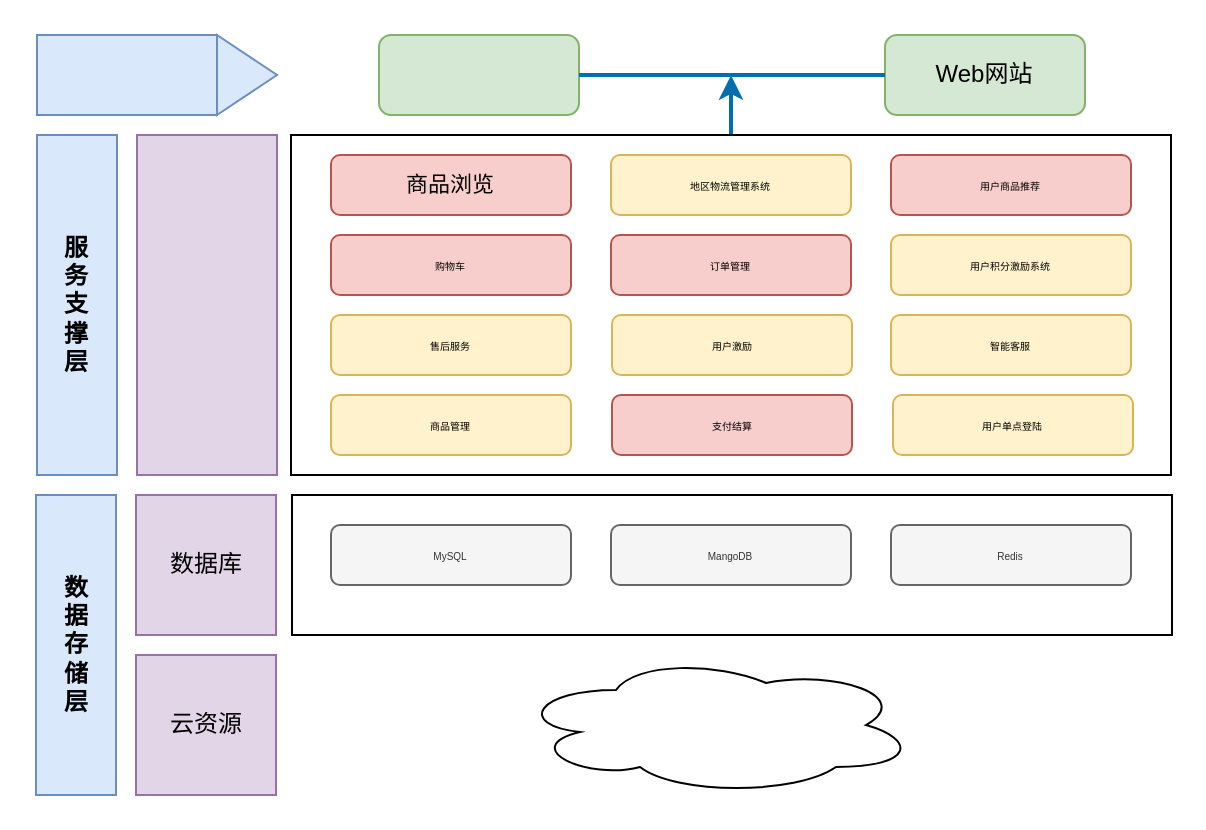
The diagram is 1206 pixels wide and 830 high, and some of its shapes have lost their labels. Here are the shapes that lost their labels. From the top down, the centre of each, then its label:
pixel 126 74: 表现层
pixel 478 74: 移动端App
pixel 206 304: 商业服务 支撑层
pixel 715 724: AWS 云服务
